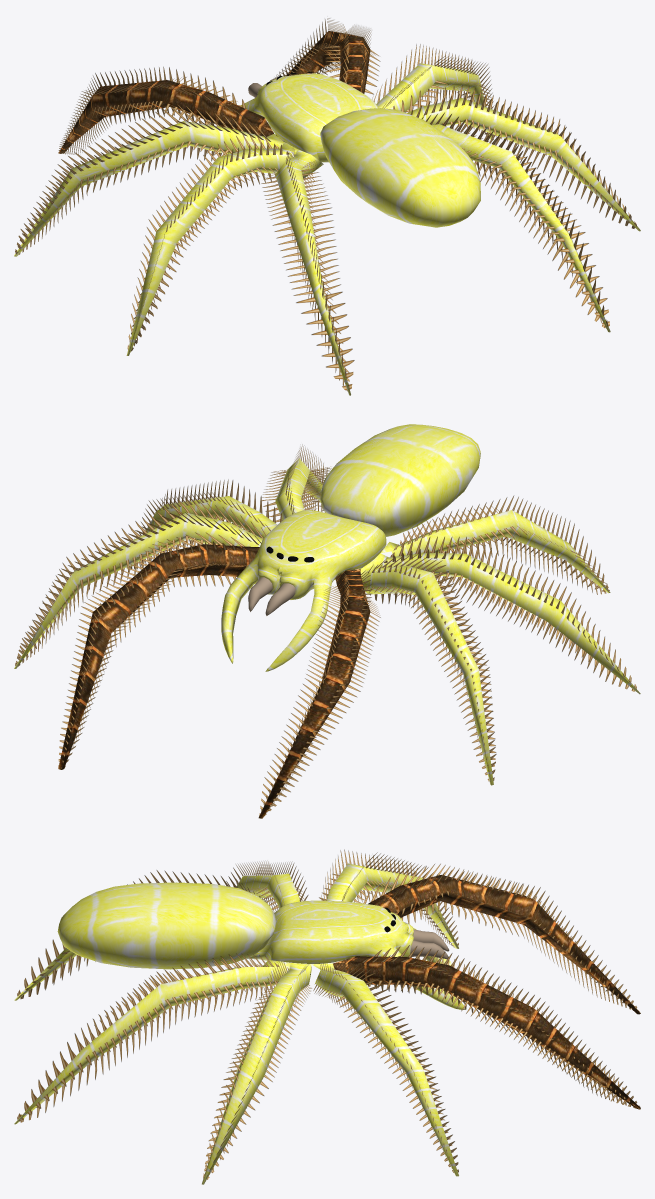
File: Spider_Animated.gltf
The picture shows the model from 3 angles, top to bottom: view 1: azimuth 30°, elevation 25°; view 2: azimuth 150°, elevation 25°; view 3: azimuth 270°, elevation 25°; orthographic projection. The views are drawn at different scales.
Parts seen in each view (by area): view 1: Spider_Spider.005, Spider_Fur_Spider; view 2: Spider_Spider.005, Spider_Fur_Spider, Spider_teeth_Spider.004; view 3: Spider_Spider.005, Spider_Fur_Spider, Spider_teeth_Spider.004.
Part boxes in pixels (x1,y1,x2,y2): Spider_Spider.005: (14, 31, 640, 395); Spider_Fur_Spider: (15, 18, 636, 391); Spider_Spider.005: (14, 424, 640, 818); Spider_Fur_Spider: (15, 444, 636, 817); Spider_teeth_Spider.004: (248, 577, 295, 615); Spider_Spider.005: (14, 863, 640, 1184); Spider_Fur_Spider: (17, 849, 640, 1179); Spider_teeth_Spider.004: (410, 929, 449, 959).
Size of the model in its own units: 184 by 59.43 by 199.
6 materials, 4 textured.
